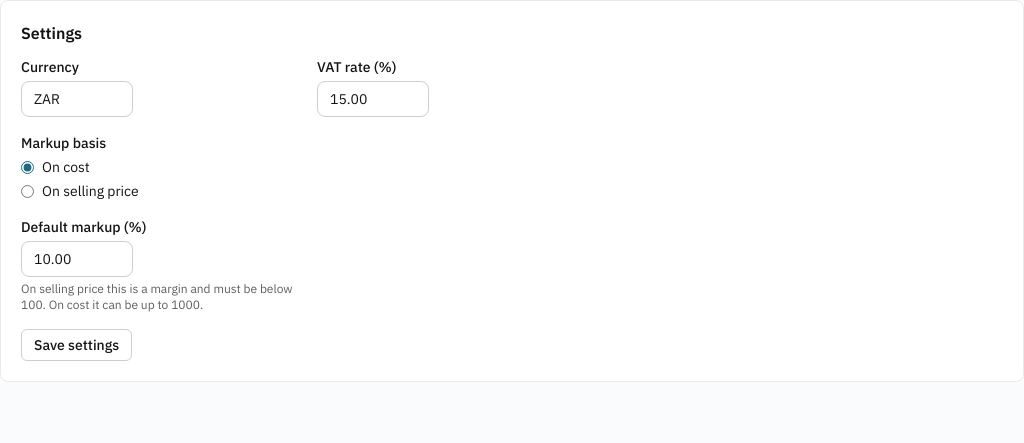
Scenario: SettingsCard › refuses a selling-price markup of 100 or more
Click the radio button labelled "On selling price". click: coordinates (28, 191)
box: left=21, top=184, right=34, bottom=198
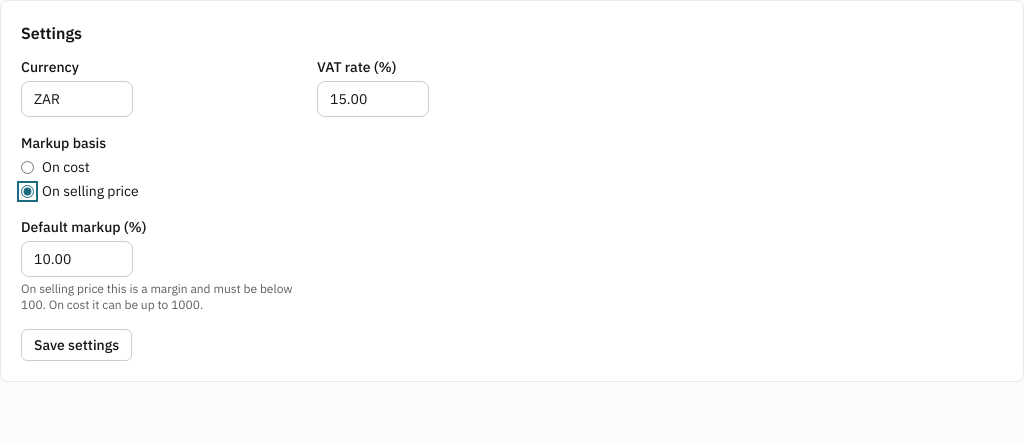
Replace the text in the field labelled "Default markup (%)" with "100". click: coordinates (77, 259)
box: left=21, top=241, right=133, bottom=277
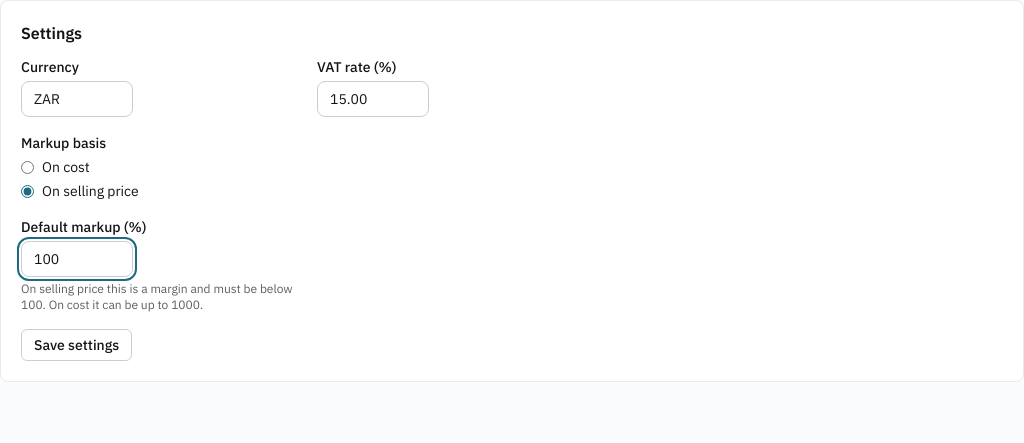
Click the button "Save settings". click: coordinates (77, 345)
box: left=21, top=329, right=132, bottom=361
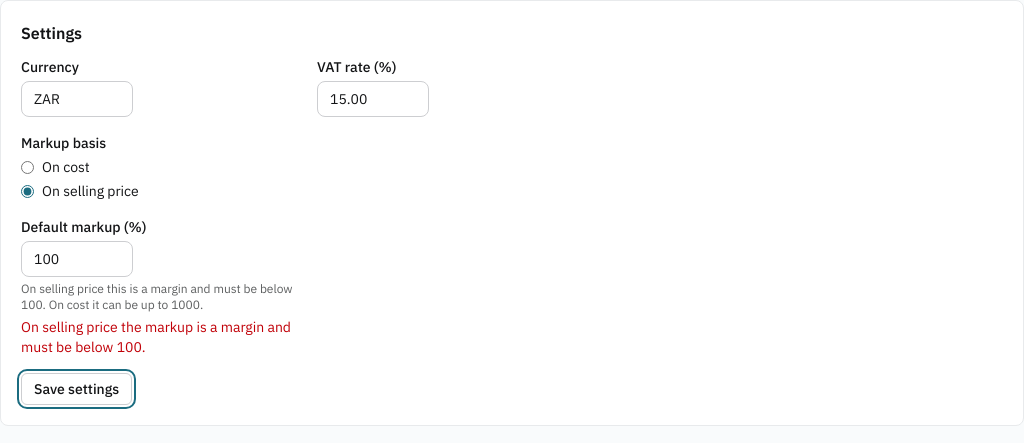
expect the text "markup is a margin and must be below 100" is shown: met, box left=21, top=318, right=291, bottom=356
